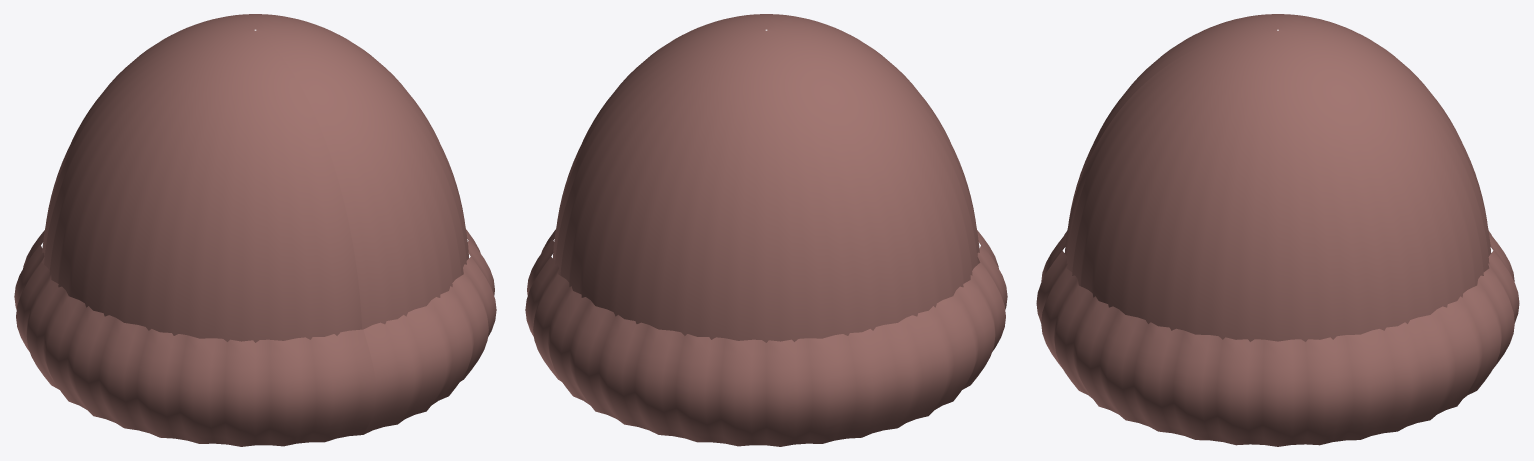
Rendered from hat-beanie.glb.
The picture shows the model from 3 angles, left to right: view 1: azimuth 30°, elevation 25°; view 2: azimuth 150°, elevation 25°; view 3: azimuth 270°, elevation 25°; orthographic projection.
Visible parts, largest first — view 1: crown, cuff; view 2: crown, cuff; view 3: crown, cuff.
Boxes of the visible parts, x1,y1,x2,y2 form: crown: (41,14,468,342); cuff: (14,229,496,446); crown: (553,14,980,342); cuff: (525,229,1007,446); crown: (1064,14,1491,341); cuff: (1036,231,1519,446).
Bounding box in the file's own units: 0.2285 × 0.17 × 0.2285.
